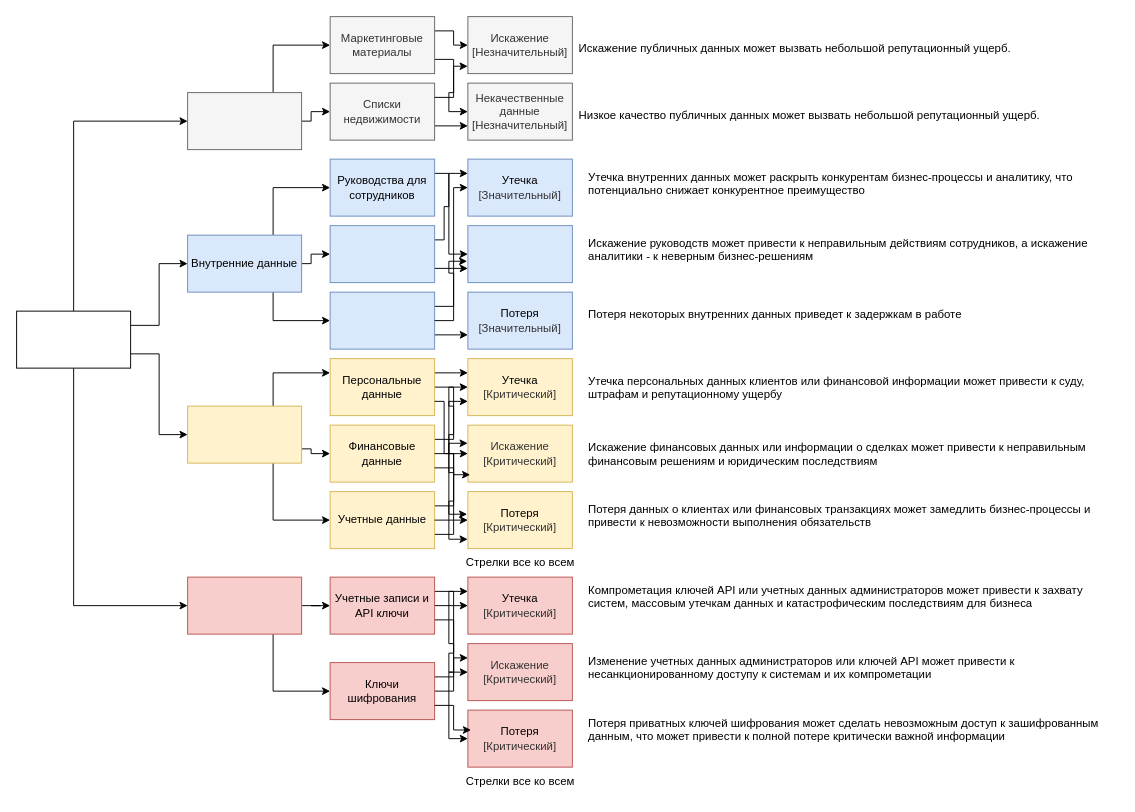
Some shapes in this 1135 by 812 pixel diagram are drawn without their labels. The centre of each missing label's shape, as x and y in pixels:
Аналитические отчеты: point 382,254
Безопасность данных: point 73,339
Искажение [Значительный]: point 519,254
Конфиденциальные данные: point 244,434
Публичные данные: point 244,121
Секретные данные: point 244,605
Статус объектов недвижимости: point 382,320
